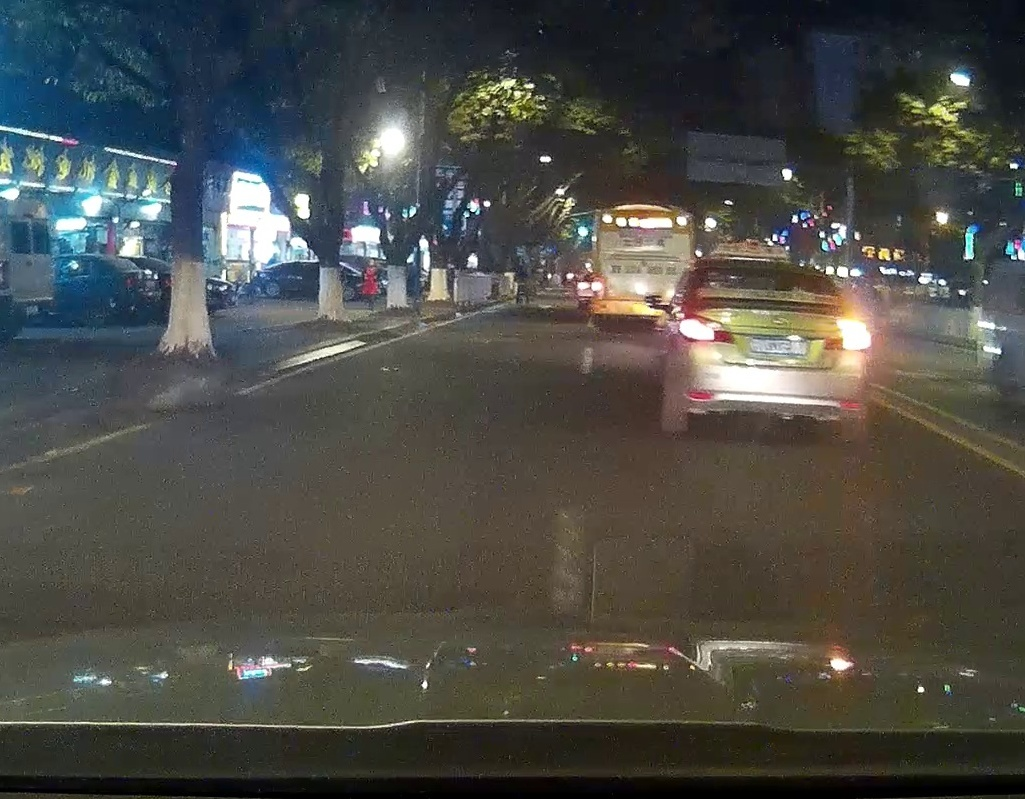L_light: (677, 312, 735, 343)
R_light: (822, 318, 873, 351)
T_light: (753, 262, 786, 271)
night-right: (659, 254, 874, 441)
